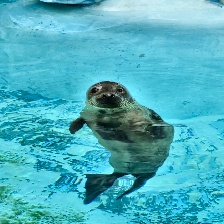seal: (69, 81, 175, 203)
